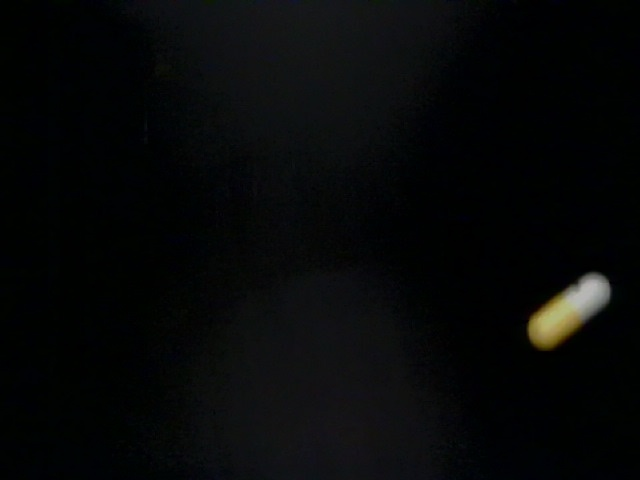YHLJ: (511, 416, 627, 480)
